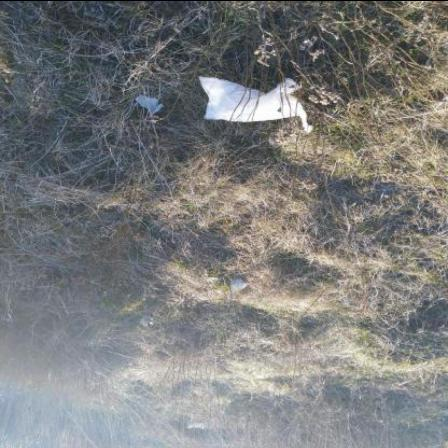Plastic bag - wrapper: (201, 76, 315, 133), (137, 96, 165, 116), (230, 278, 248, 300), (140, 317, 158, 327)
Unlabeled litter: (190, 424, 212, 431)
